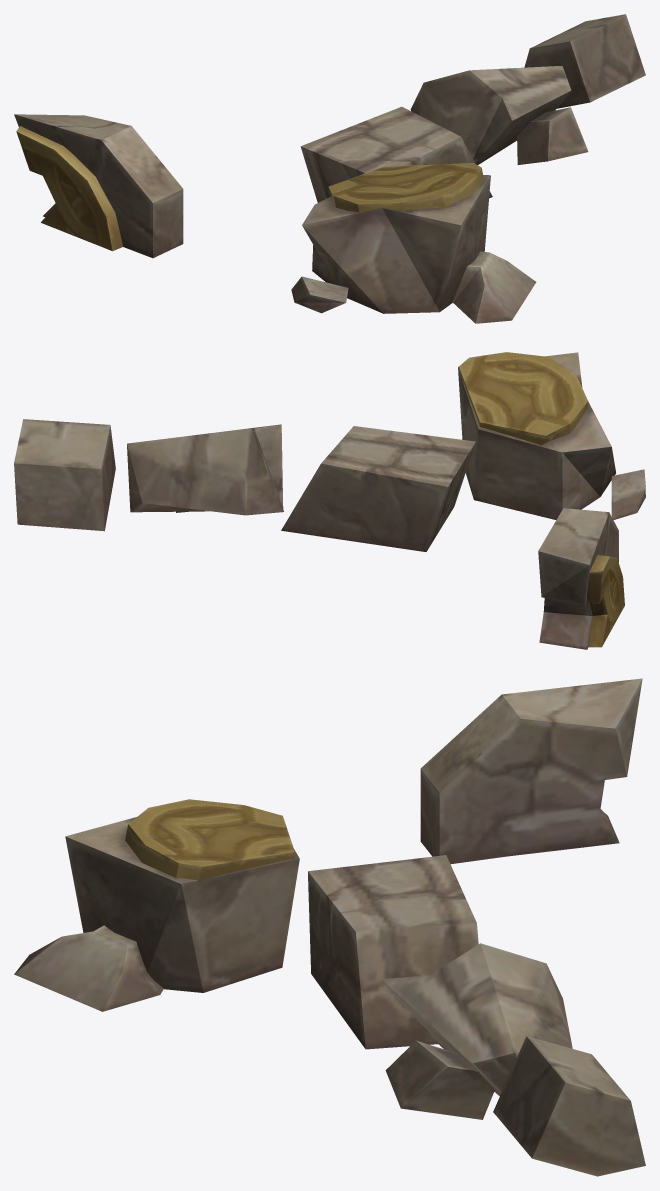
File: stone_29.FBX
3 views of the same model, one above another, from view 1: azimuth 30°, elevation 25°; view 2: azimuth 150°, elevation 25°; view 3: azimuth 270°, elevation 25° (orthographic). The views are drawn at different scales.
Visible parts, largest first — view 1: stone_29; view 2: stone_29; view 3: stone_29.
Part boxes in pixels (box(x1,y1,x2,y2)): stone_29: box(14, 14, 645, 323); stone_29: box(14, 352, 645, 649); stone_29: box(14, 678, 645, 1176).
Size of the model in its own units: 754 by 135 by 523.
